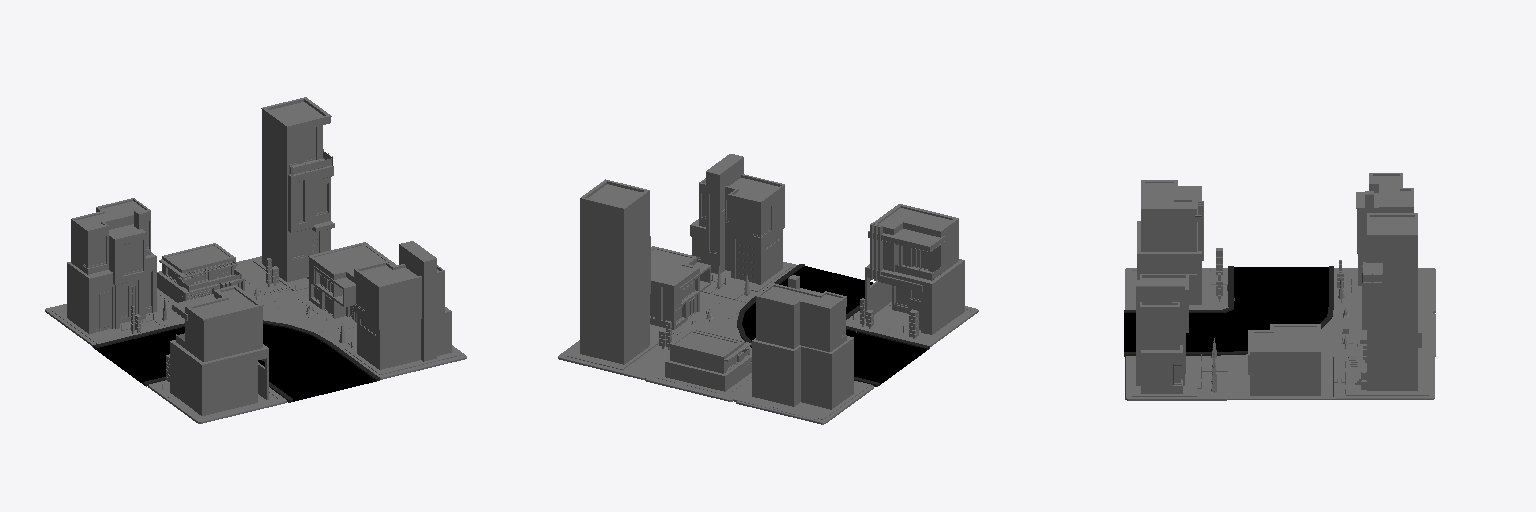
The model's file is road7.obj.
3 renders of one model, left to right at view 1: azimuth 30°, elevation 25°; view 2: azimuth 150°, elevation 25°; view 3: azimuth 270°, elevation 25°, orthographic.
Parts seen in each view (by area): view 1: 90__Road_Curve_Left_Right001, Box437_Mesh_164, Box345_Mesh_313, Box335_Mesh_309, Box524_Mesh_122, Line017_Mesh_194, Box522_Mesh_120, Box523_Mesh_121, Object093_Mesh_304, Object141_Mesh_171, Object127_Mesh_200, Object065_Mesh_355 (+24 smaller); view 2: Box437_Mesh_164, Line017_Mesh_194, 90__Road_Curve_Left_Right001, Box422_Mesh_187, Box345_Mesh_313, Box523_Mesh_121, Box524_Mesh_122, Box335_Mesh_309, Box193_Mesh_380, Object065_Mesh_355, Rectangle007_Mesh_175, Object100_Mesh_311 (+22 smaller); view 3: 90__Road_Curve_Left_Right001, Box437_Mesh_164, Line003_Mesh_356, Box335_Mesh_309, Object065_Mesh_355, Box523_Mesh_121, Object276_Mesh_119, Box345_Mesh_313, Box522_Mesh_120, Rectangle007_Mesh_175, Object122_Mesh_199, Object100_Mesh_311 (+11 smaller).
Boxes of the visible parts, x1=… form: 90__Road_Curve_Left_Right001: x1=105, y1=320, x2=372, y2=395; Box437_Mesh_164: x1=262, y1=110, x2=330, y2=281; Box345_Mesh_313: x1=170, y1=340, x2=268, y2=415; Box335_Mesh_309: x1=185, y1=292, x2=262, y2=361; Box524_Mesh_122: x1=354, y1=270, x2=444, y2=329; Line017_Mesh_194: x1=67, y1=252, x2=156, y2=334; Box522_Mesh_120: x1=380, y1=307, x2=451, y2=369; Box523_Mesh_121: x1=399, y1=241, x2=436, y2=361; Object093_Mesh_304: x1=213, y1=361, x2=257, y2=413; Object141_Mesh_171: x1=290, y1=127, x2=331, y2=256; Object127_Mesh_200: x1=84, y1=222, x2=150, y2=316; Object065_Mesh_355: x1=308, y1=242, x2=396, y2=277; Box437_Mesh_164: x1=580, y1=191, x2=649, y2=364; Line017_Mesh_194: x1=752, y1=336, x2=853, y2=409; 90__Road_Curve_Left_Right001: x1=737, y1=269, x2=916, y2=382; Box422_Mesh_187: x1=756, y1=297, x2=846, y2=351; Box345_Mesh_313: x1=865, y1=259, x2=964, y2=334; Box523_Mesh_121: x1=706, y1=154, x2=743, y2=273; Box524_Mesh_122: x1=729, y1=185, x2=784, y2=244; Box335_Mesh_309: x1=883, y1=220, x2=958, y2=273; Box193_Mesh_380: x1=665, y1=354, x2=751, y2=391; Object065_Mesh_355: x1=651, y1=246, x2=699, y2=286; Rectangle007_Mesh_175: x1=558, y1=330, x2=678, y2=379; Object100_Mesh_311: x1=873, y1=204, x2=958, y2=232; 90__Road_Curve_Left_Right001: x1=1186, y1=271, x2=1333, y2=355; Box437_Mesh_164: x1=1367, y1=235, x2=1417, y2=390; Line003_Mesh_356: x1=1250, y1=353, x2=1320, y2=395; Box335_Mesh_309: x1=1141, y1=210, x2=1196, y2=251; Object065_Mesh_355: x1=1250, y1=324, x2=1320, y2=352; Box523_Mesh_121: x1=1136, y1=280, x2=1184, y2=385; Object276_Mesh_119: x1=1140, y1=307, x2=1179, y2=349; Box345_Mesh_313: x1=1137, y1=221, x2=1201, y2=304; Box522_Mesh_120: x1=1141, y1=345, x2=1182, y2=393; Rectangle007_Mesh_175: x1=1333, y1=355, x2=1434, y2=399; Object122_Mesh_199: x1=1356, y1=173, x2=1413, y2=208; Object100_Mesh_311: x1=1141, y1=180, x2=1196, y2=209.
Size of the model in its own units: 20.11 by 11.23 by 20.05.